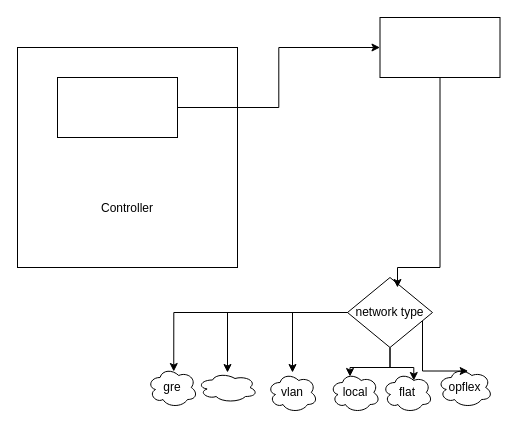
The diagram is 518 pixels wide and 430 high, and some of its shapes have lost their labels. The centre of each missing label's shape, as x and y in pixels:
"Ml2 plugin" goes at point 439,47.
"neutron server" goes at point 117,107.
"vxlan" goes at point 227,387.
